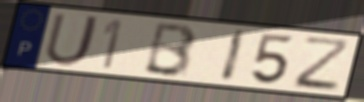1: (101, 18, 125, 71)
5: (250, 32, 296, 86)
B: (141, 21, 199, 79)
I: (218, 27, 249, 84)
U: (42, 11, 104, 68)
Z: (293, 36, 353, 93)
